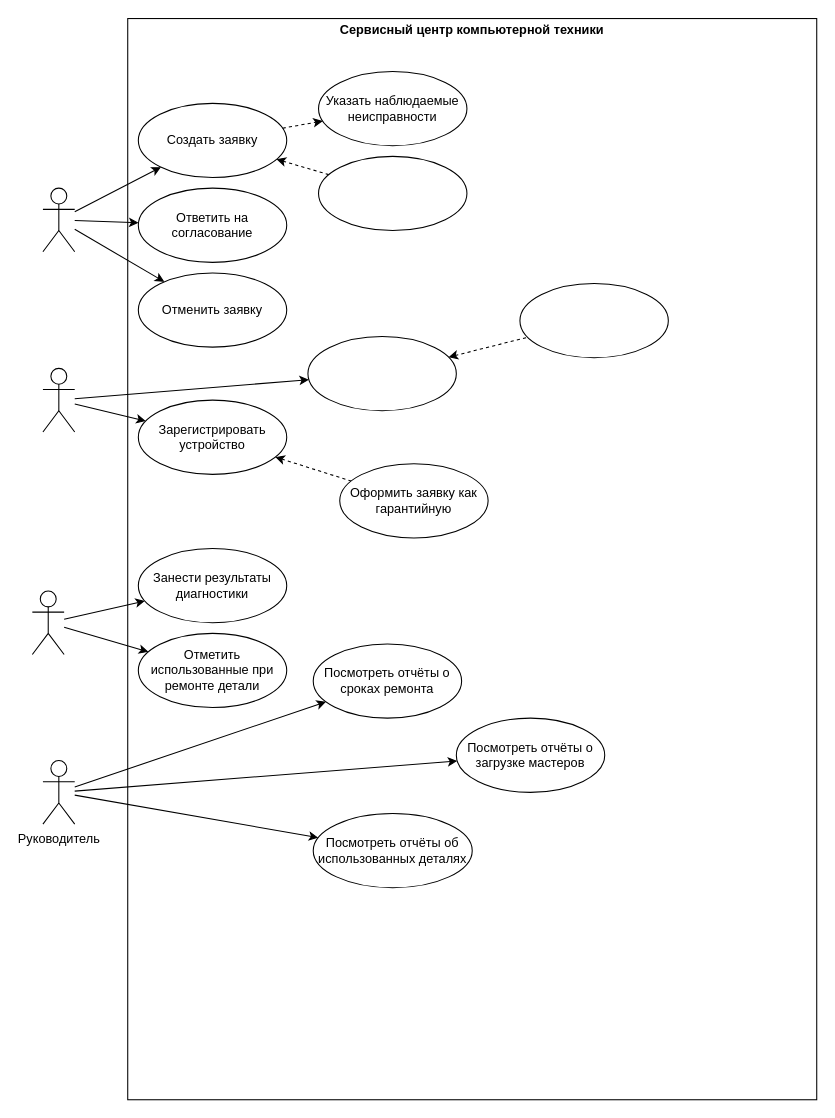
This 835x1118 diagram has some shape labels left out. Here are the shapes that lost their labels. From the top down, the centre of each, then its label:
point (392, 193): Установить предел стоимости ремонта
point (58, 219): Клиент
point (593, 320): Зарегистрировать оплату ремонта
point (381, 373): Зарегистрировать выдачу устройства
point (58, 399): Сотрудник
point (47, 622): Мастер
